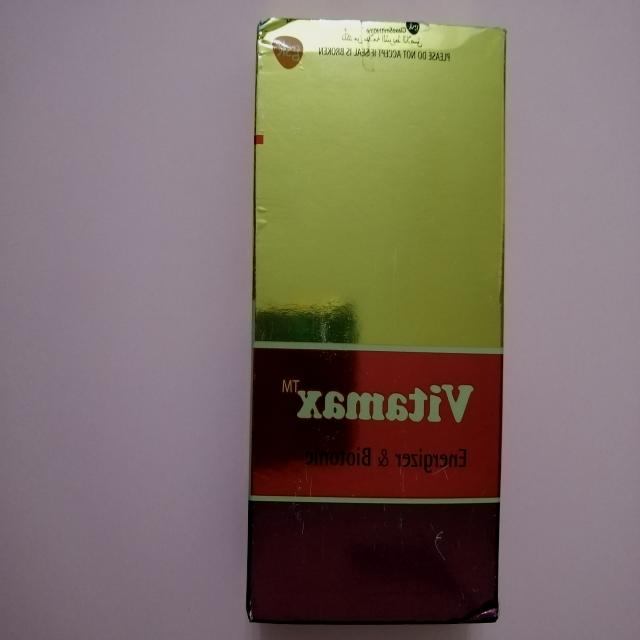medicine_packaging: (238, 11, 518, 630)
